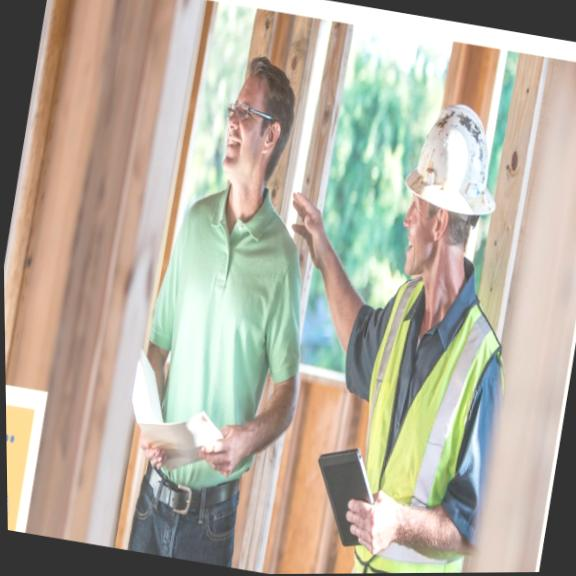no_safety_vest: (119, 182, 314, 519)
safety_vest: (317, 274, 520, 574)
